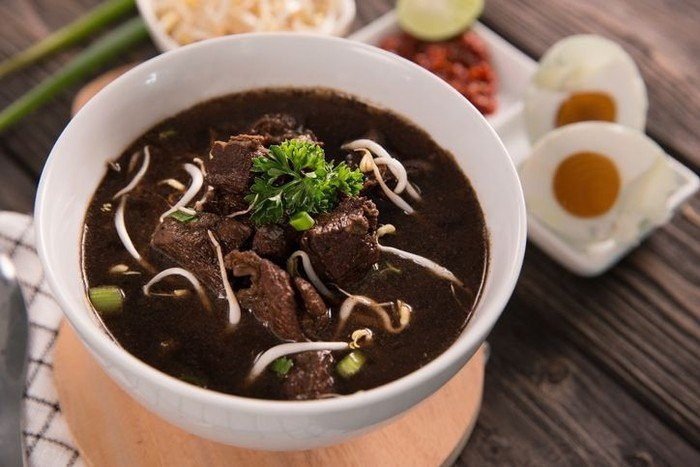rawon: (91, 94, 464, 379)
